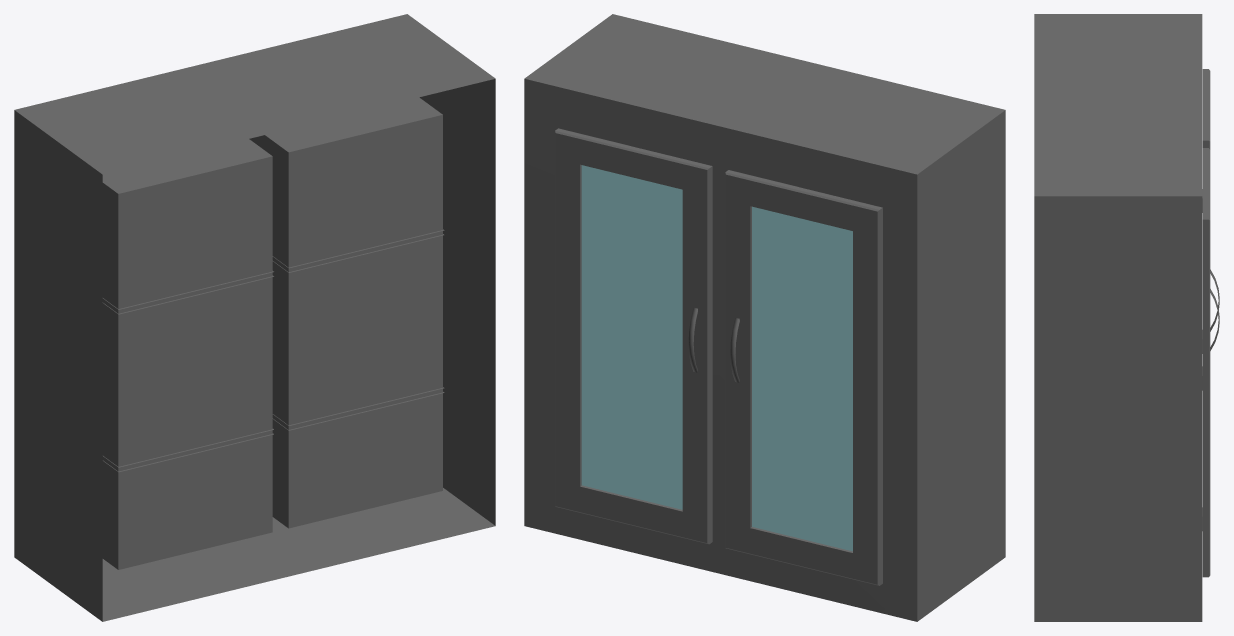
Rendered from Kitchen_Wallcabinet2.FBX.
3 views of the same model, side by side, from view 1: azimuth 30°, elevation 25°; view 2: azimuth 150°, elevation 25°; view 3: azimuth 270°, elevation 25° (orthographic). The views are drawn at different scales.
Parts seen in each view (by area): view 1: Kitchen_Wallcabinet2; view 2: Kitchen_Wallcabinet2, Door028, Door027; view 3: Kitchen_Wallcabinet2, Door027, Door028.
Part boxes in pixels (x1,y1,x2,y2): Kitchen_Wallcabinet2: [14, 14, 495, 621]; Kitchen_Wallcabinet2: [524, 14, 1005, 621]; Door028: [725, 170, 882, 585]; Door027: [555, 128, 712, 544]; Kitchen_Wallcabinet2: [1034, 14, 1202, 621]; Door027: [1202, 148, 1219, 577]; Door028: [1202, 69, 1219, 390].
Size of the model in its own units: 115 by 125 by 49.45.
